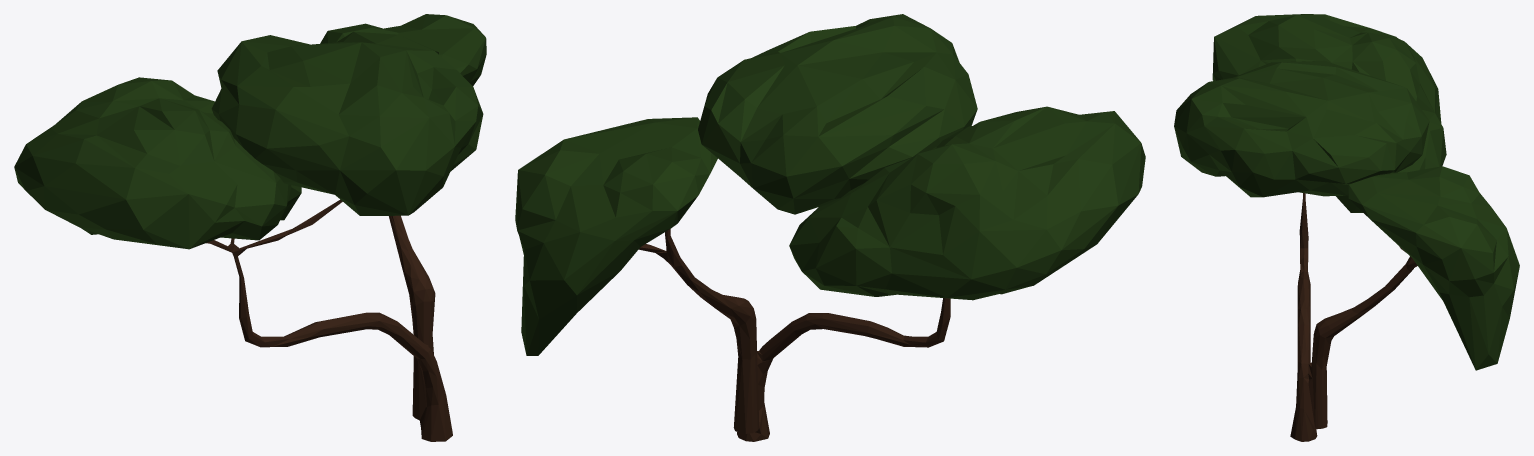
The model's file is SM_tree_jungle_04.fbx.
3 views of the same model, side by side, from view 1: azimuth 30°, elevation 25°; view 2: azimuth 150°, elevation 25°; view 3: azimuth 270°, elevation 25° (orthographic). The views are drawn at different scales.
Parts seen in each view (by area): view 1: Object004; view 2: Object004; view 3: Object004.
Boxes of the visible parts, box(x1,y1,x2,y2) form: Object004: box(14, 14, 486, 441); Object004: box(515, 14, 1145, 441); Object004: box(1174, 14, 1519, 441).
Bounding box in the file's own units: 499 × 374 × 367.
